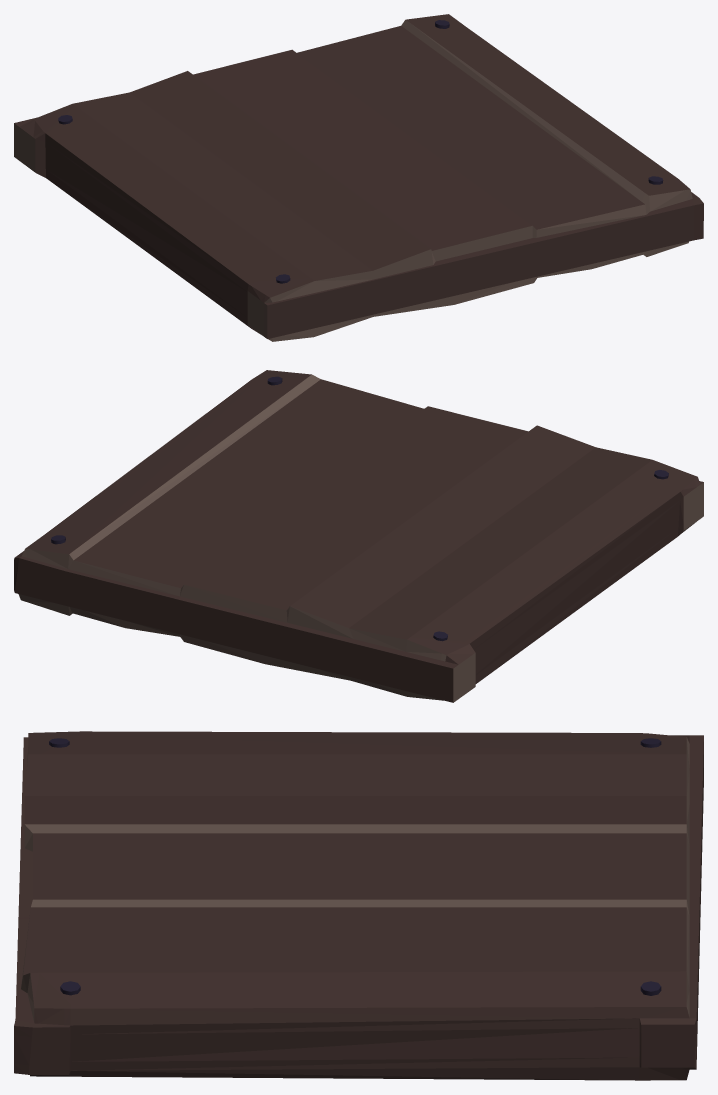
File: MCastle_Floorboards_01.FBX
3 views of the same model, one above another, from view 1: azimuth 30°, elevation 25°; view 2: azimuth 150°, elevation 25°; view 3: azimuth 270°, elevation 25° (orthographic). The views are drawn at different scales.
Parts seen in each view (by area): view 1: MCastle_Floorboards_01_LOD0; view 2: MCastle_Floorboards_01_LOD0; view 3: MCastle_Floorboards_01_LOD0.
Boxes of the visible parts, box(x1,y1,x2,y2) form: MCastle_Floorboards_01_LOD0: box(14, 14, 703, 341); MCastle_Floorboards_01_LOD0: box(14, 370, 703, 702); MCastle_Floorboards_01_LOD0: box(14, 731, 703, 1080).
Size of what is drawn, in the model's own units: 4.11 by 0.5649 by 4.12.
